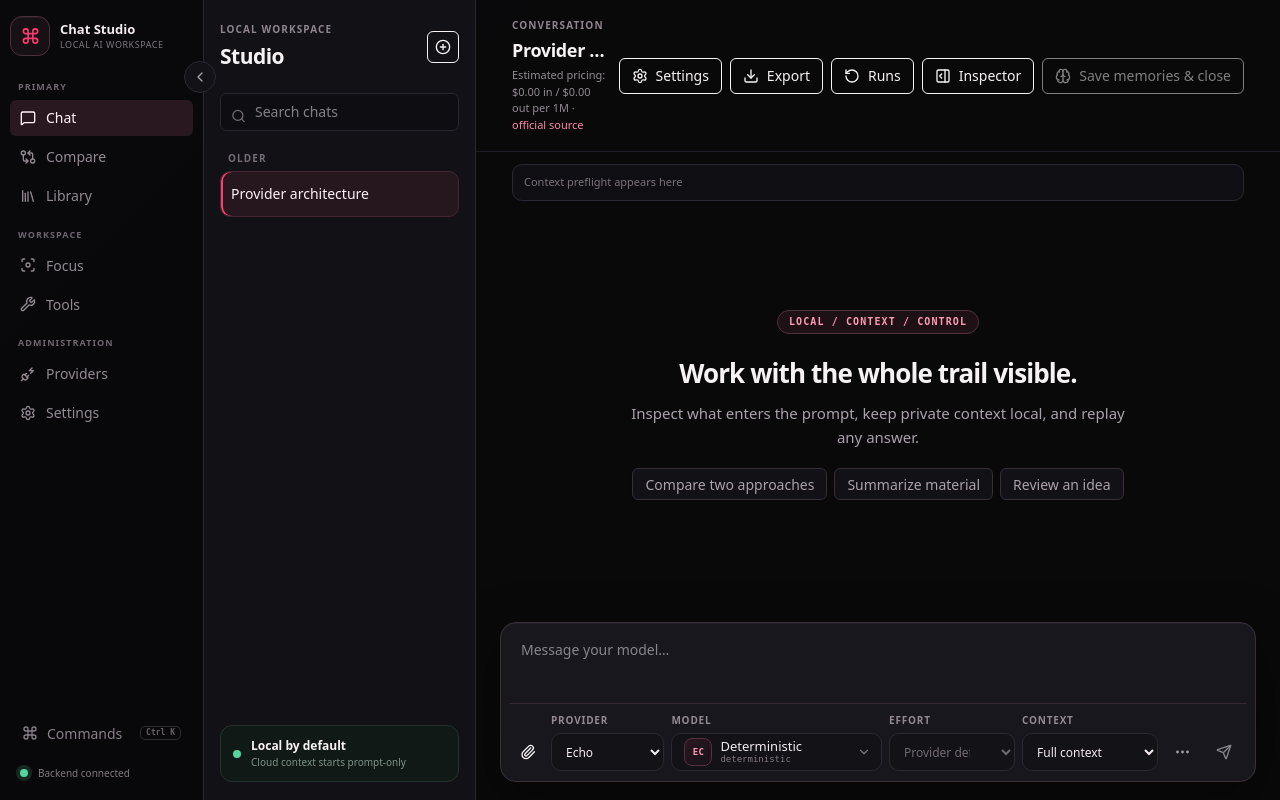
Test: studio workspace › reports context overflow without hiding the exact percentage
Check: the heading "Provider architecture" is shown, box [512,37,607,64]
Check: the text "Backend connected" is shown, box [38,766,130,780]
Type "overflow context" into the text box labelled "Message" at (878, 667), box [509,631,1247,703]
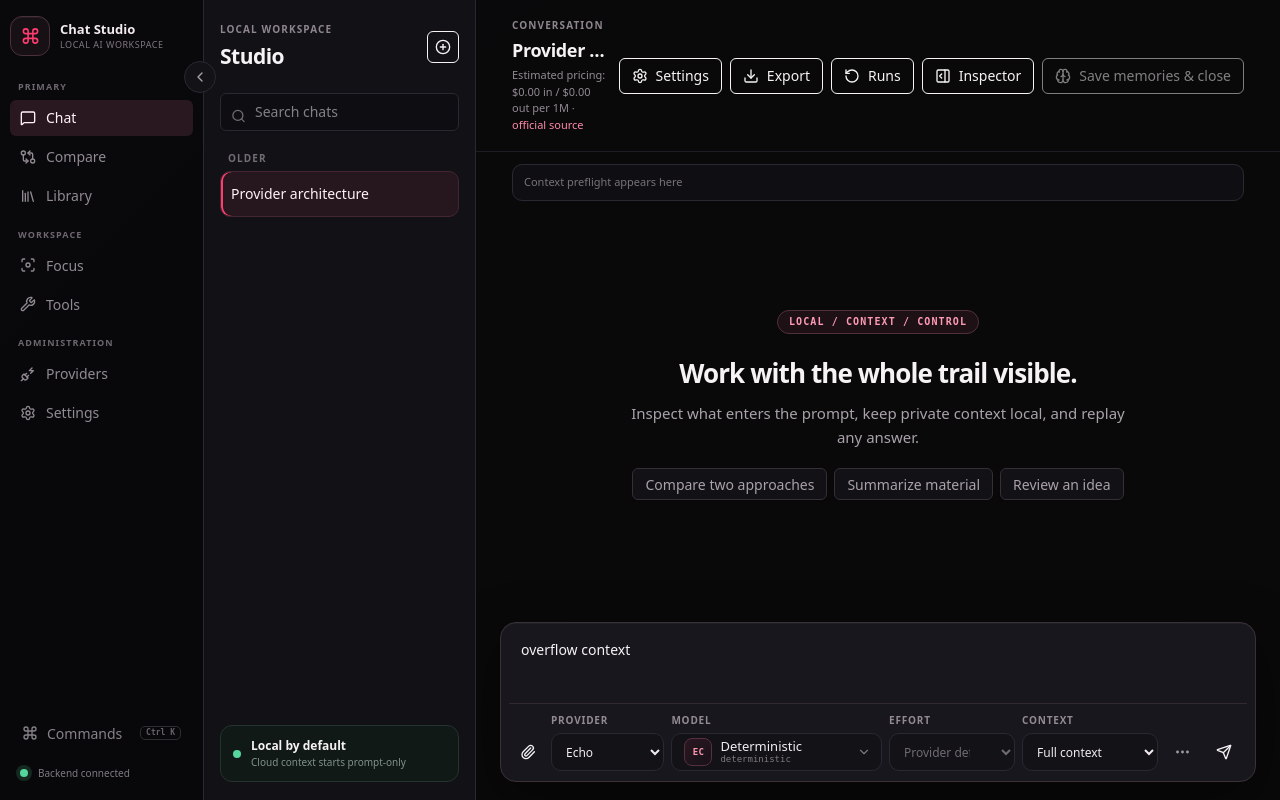
Click the button named "Send message" at (1224, 752), box [1206,733,1242,771]
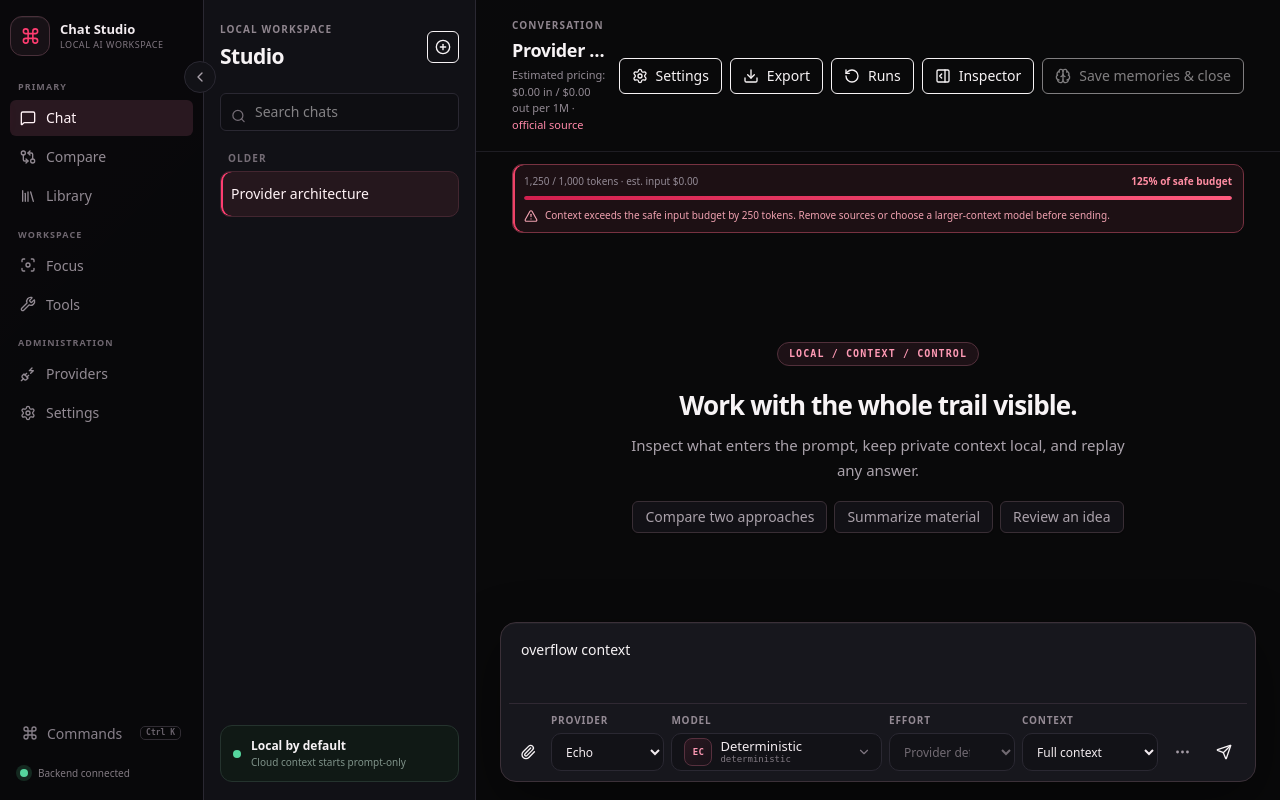
Check: the text "125% of safe budget" is shown, box [1131,174,1232,189]
Check: the message shows "exceeds the safe input budget by 250 tokens", box [545,208,1110,222]
